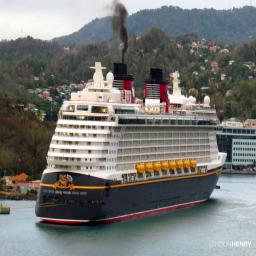cruises: (33, 49, 230, 226)
